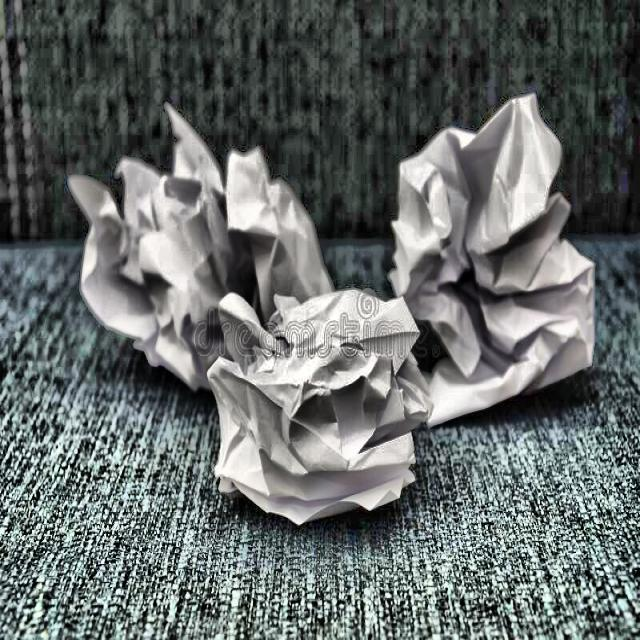Paper: (58, 101, 350, 431), (376, 80, 609, 422), (198, 262, 429, 545)
